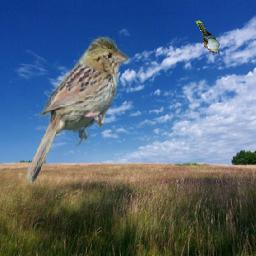Cuckoo: (196, 21, 221, 54)
Sparrow: (22, 35, 130, 186)
